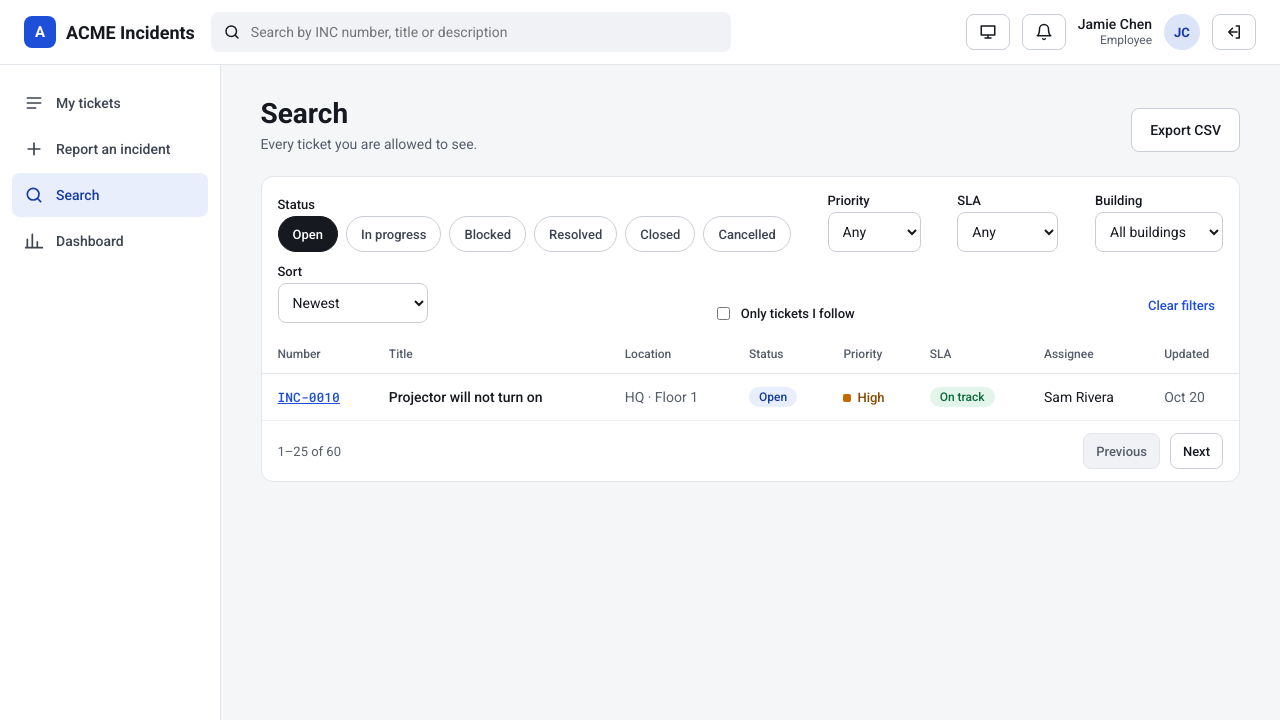
URL state › pages through results via the URL
The image size is (1280, 720).
Expected: the heading "Search" is shown, [260,97,348,130]
Expected: the table is shown, [262,335,1239,421]
Click the button "Next". click: {"x": 1196, "y": 451}
box: [1170,433,1223,469]
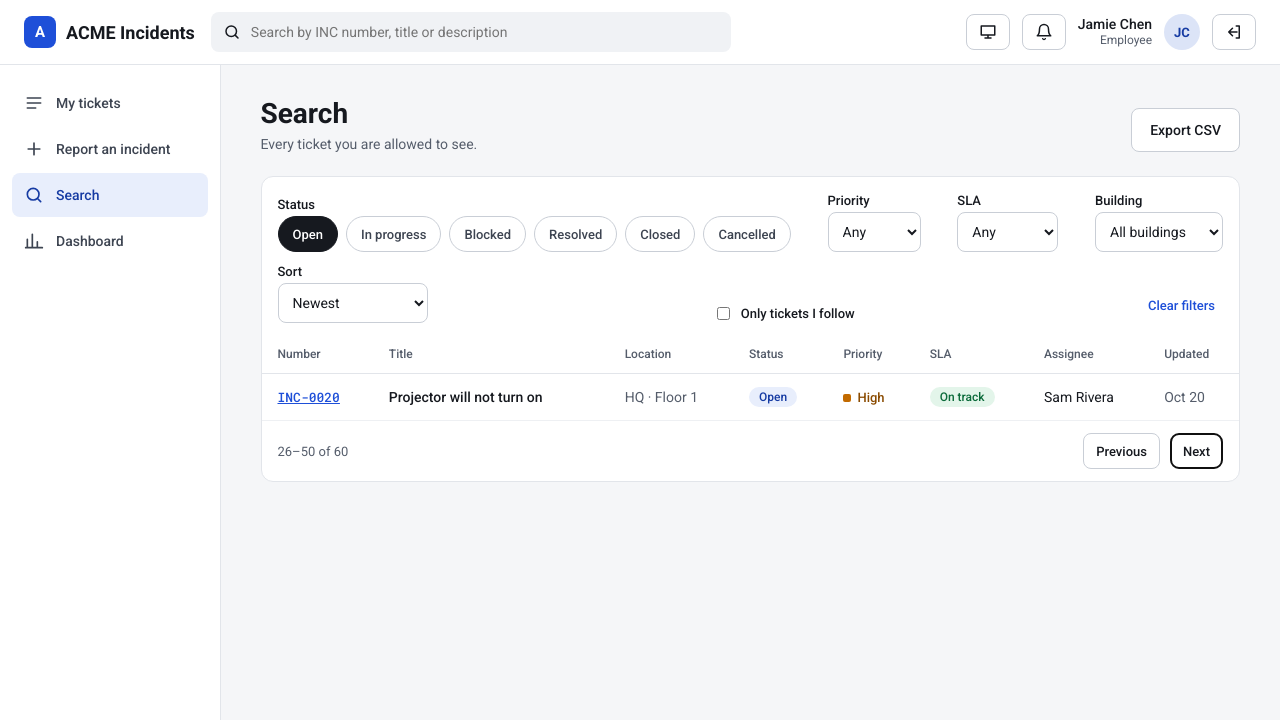
Now the link "INC-0020" is shown, box [278,388,340,406]
Click the button "Previous". click: {"x": 1122, "y": 451}
box: [1083,433,1160,469]
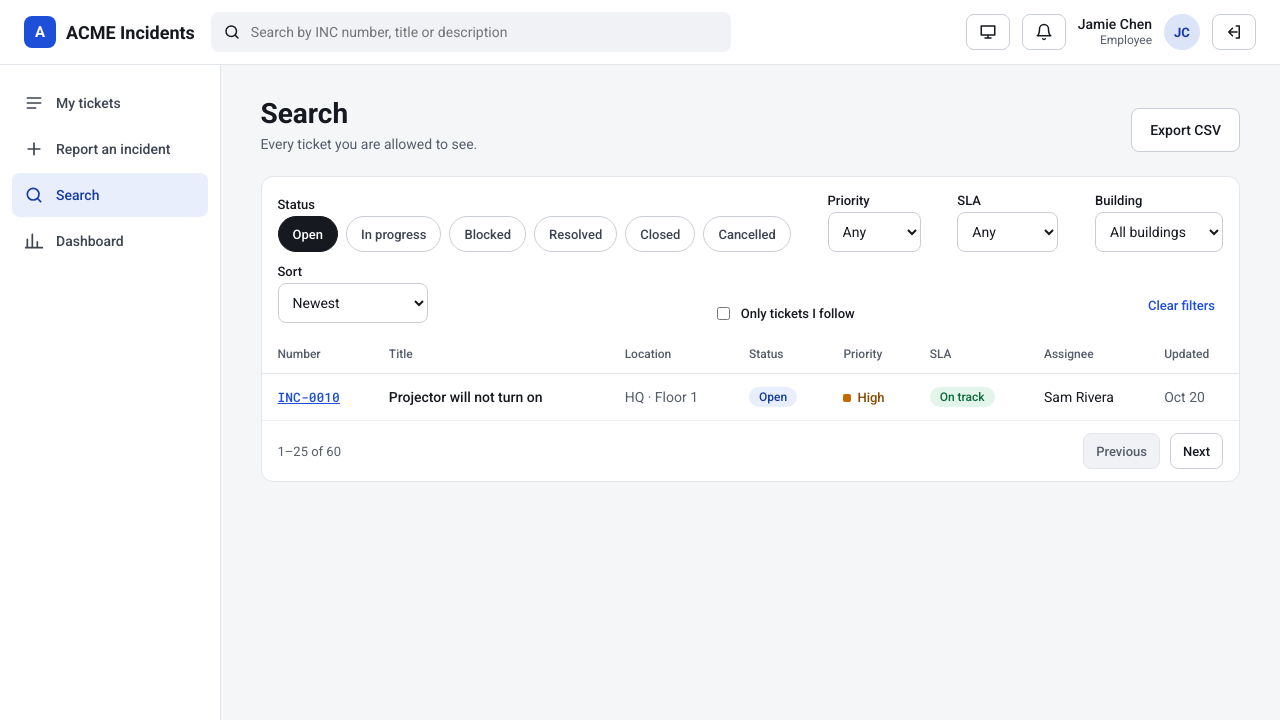
Now the link "INC-0010" is shown, box [278,388,340,406]
